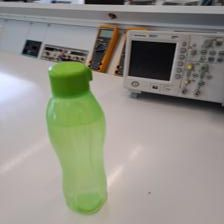bottle: (45, 59, 112, 215)
